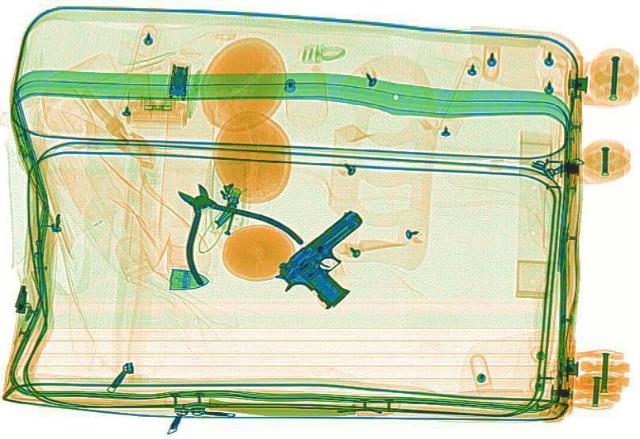Gun: (260, 207, 410, 308)
Pliers: (129, 166, 311, 285)
